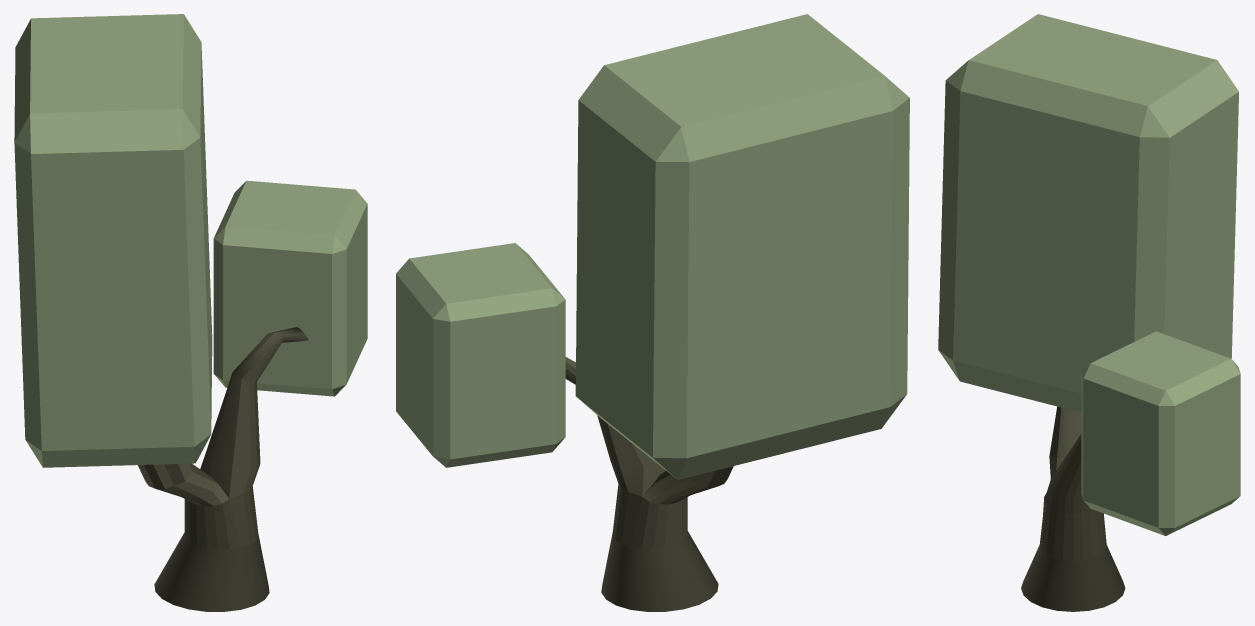
File: Tree3Dark.fbx
The picture shows the model from 3 angles, left to right: view 1: azimuth 30°, elevation 25°; view 2: azimuth 150°, elevation 25°; view 3: azimuth 270°, elevation 25°; orthographic projection. The views are drawn at different scales.
Parts seen in each view (by area): view 1: pasted__pCube42, pasted__pCube41, pasted__pasted__pCylinder4; view 2: pasted__pCube42, pasted__pCube41, pasted__pasted__pCylinder4; view 3: pasted__pCube42, pasted__pCube41, pasted__pasted__pCylinder4.
Boxes of the visible parts, x1,y1,x2,y2 form: pasted__pCube42: [14, 14, 212, 467]; pasted__pCube41: [213, 180, 367, 396]; pasted__pasted__pCylinder4: [137, 327, 308, 611]; pasted__pCube42: [575, 14, 909, 479]; pasted__pCube41: [396, 243, 565, 467]; pasted__pasted__pCylinder4: [565, 357, 733, 611]; pasted__pCube42: [938, 14, 1238, 412]; pasted__pCube41: [1081, 331, 1240, 535]; pasted__pasted__pCylinder4: [1021, 406, 1125, 611].
Bounding box in the file's own units: 2.84 × 3.55 × 1.98.
